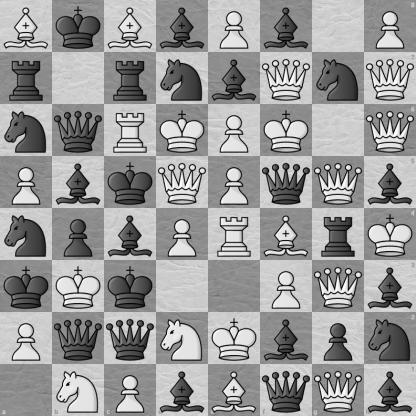B: (209, 364, 260, 416), (1, 1, 52, 52), (105, 1, 156, 52), (261, 209, 312, 260)
K: (364, 209, 416, 260), (53, 261, 104, 312), (157, 105, 208, 156), (209, 313, 260, 364), (261, 105, 312, 156)
N: (52, 364, 104, 416), (157, 313, 208, 364)
P: (104, 364, 156, 416), (364, 0, 416, 52), (1, 157, 52, 208), (1, 313, 52, 364), (157, 209, 208, 260), (209, 1, 260, 52), (209, 105, 260, 156), (209, 157, 260, 208), (261, 261, 312, 312)
Q: (312, 364, 364, 416), (364, 52, 416, 104), (364, 104, 416, 156), (157, 157, 208, 208), (261, 53, 312, 104), (313, 157, 364, 208), (313, 261, 364, 312)
R: (105, 105, 156, 156), (209, 209, 260, 260)
b: (156, 364, 209, 416), (364, 156, 416, 209), (364, 260, 416, 312), (364, 364, 416, 416), (53, 157, 104, 208), (105, 209, 156, 260), (157, 1, 208, 52), (209, 53, 260, 104), (261, 1, 312, 52), (261, 313, 312, 364)
board: (0, 0, 415, 415)
k: (1, 261, 52, 312), (53, 1, 104, 52), (105, 157, 156, 208), (105, 261, 156, 312)
n: (364, 312, 416, 364), (1, 105, 52, 156), (1, 209, 52, 260), (157, 53, 208, 104), (313, 53, 364, 104)
p: (53, 209, 104, 260), (313, 313, 364, 364)
q: (260, 364, 312, 416), (53, 105, 104, 156), (53, 313, 104, 364), (105, 313, 156, 364), (261, 157, 312, 208)
r: (1, 53, 52, 104), (105, 53, 156, 104), (313, 209, 364, 260)
